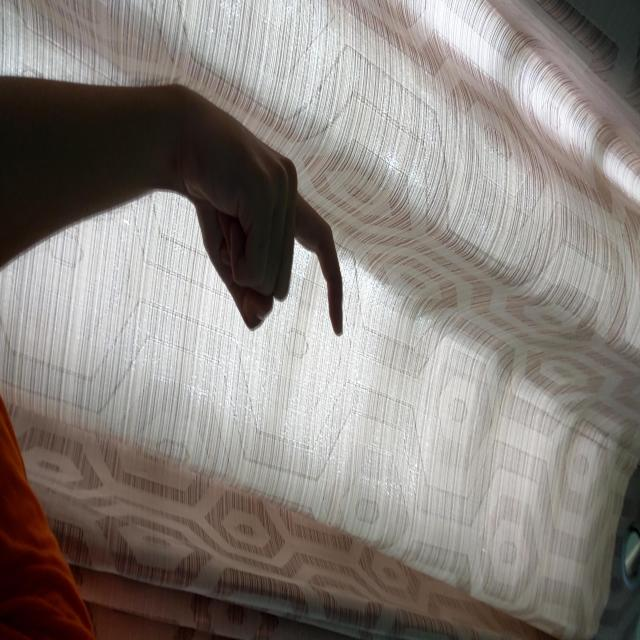X: (99, 294, 338, 452)
